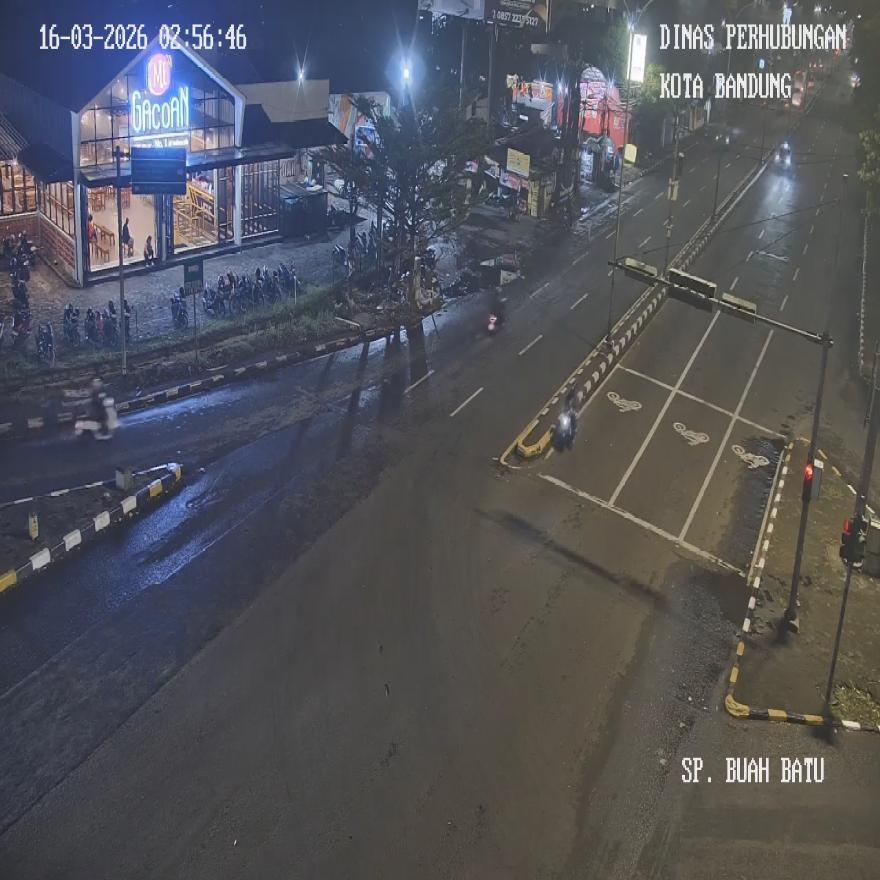Truk: (10, 304, 32, 352), (555, 406, 577, 451), (231, 276, 253, 317), (83, 306, 105, 347), (34, 322, 54, 366), (276, 260, 297, 300), (99, 303, 118, 347), (202, 282, 223, 319), (487, 289, 505, 332), (62, 310, 82, 348), (332, 242, 352, 277), (170, 290, 188, 328), (774, 141, 792, 177), (144, 236, 156, 269)
